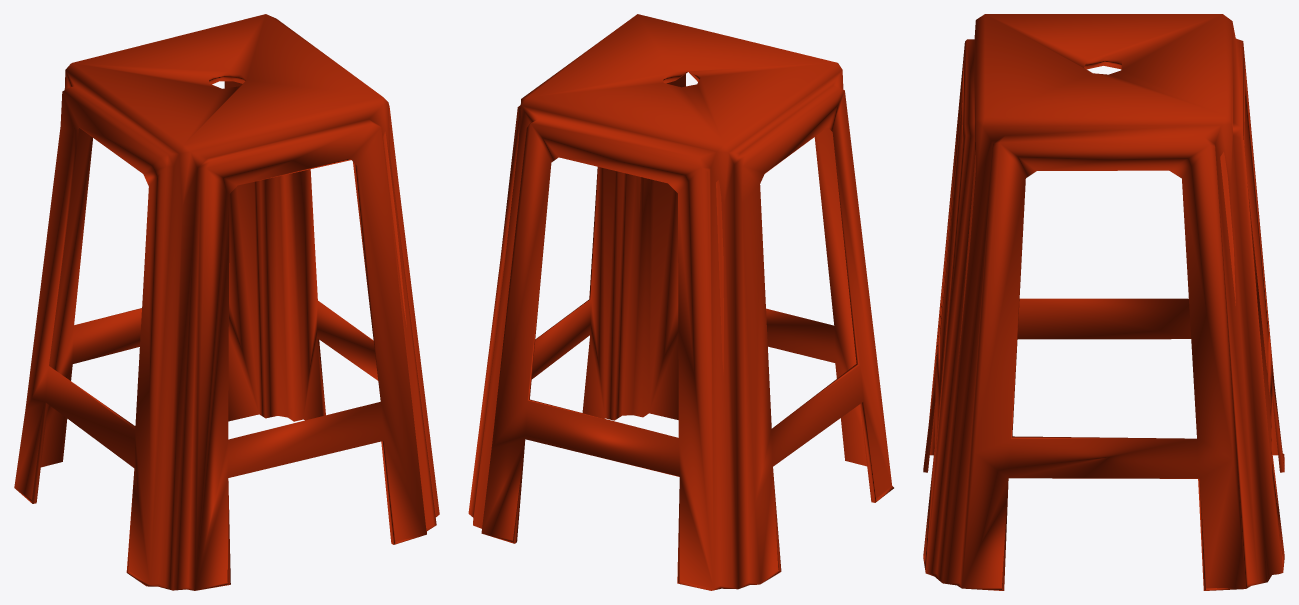
Rendered from Chair.fbx.
The picture shows the model from 3 angles, left to right: view 1: azimuth 30°, elevation 25°; view 2: azimuth 150°, elevation 25°; view 3: azimuth 270°, elevation 25°; orthographic projection. The views are drawn at different scales.
Parts seen in each view (by area): view 1: Chair.078; view 2: Chair.078; view 3: Chair.078.
Boxes of the visible parts, bbox=[...] form: Chair.078: bbox=[14, 14, 439, 590]; Chair.078: bbox=[468, 14, 893, 590]; Chair.078: bbox=[923, 14, 1284, 590].
Bounding box in the file's own units: 54.41 × 74.67 × 54.41.
